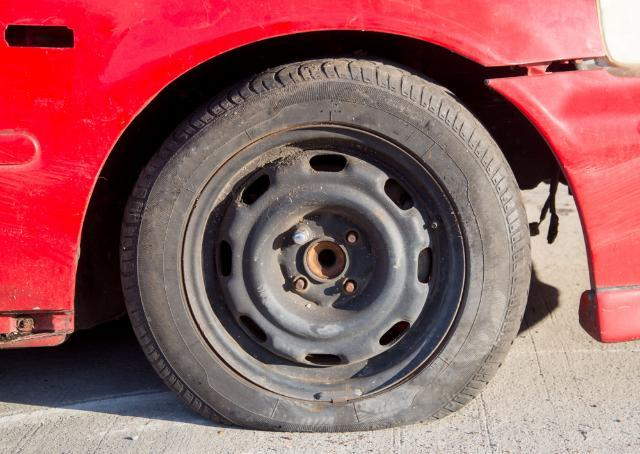tire flat: (119, 55, 532, 431)
